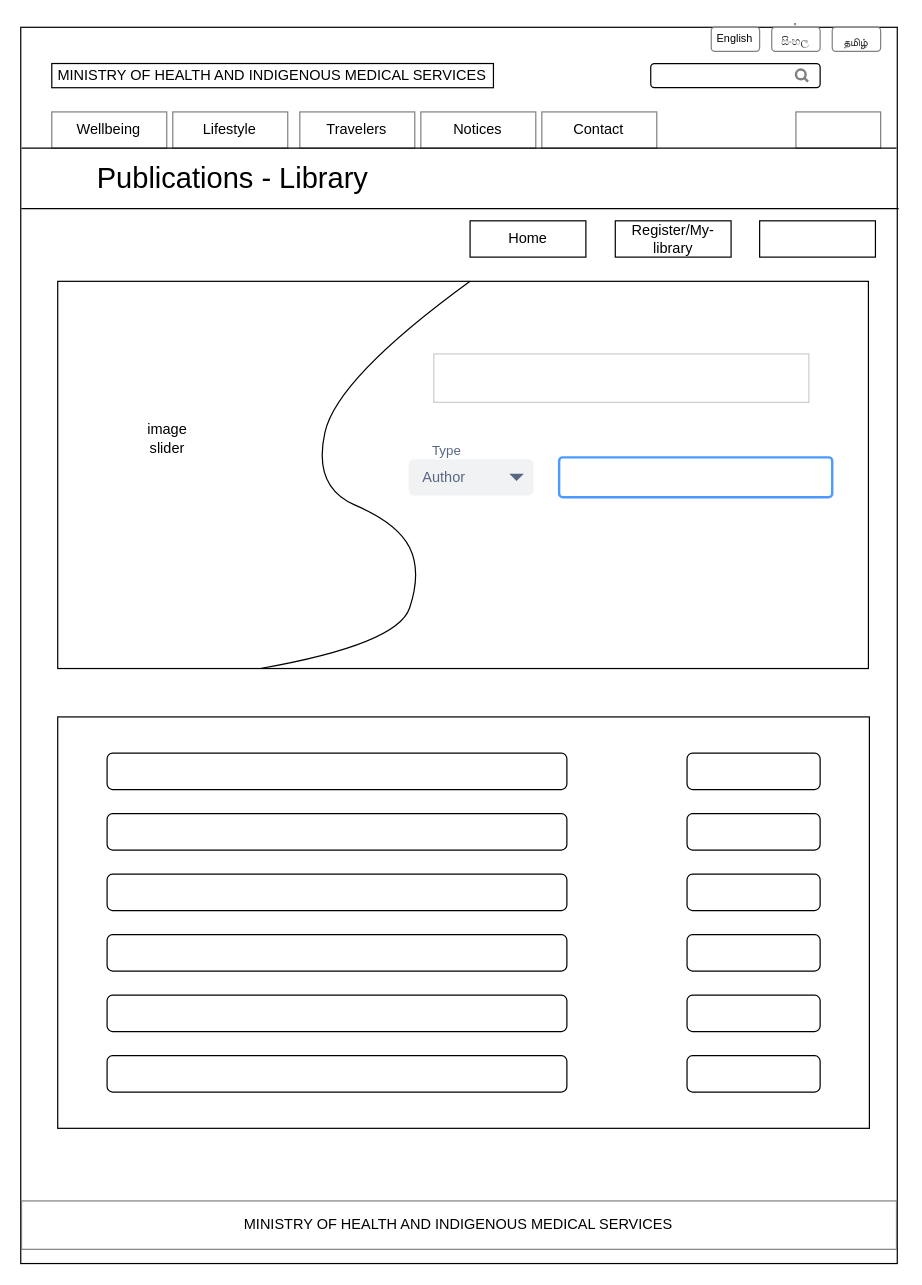
This 922x1285 diagram has some shape labels left out. The shapes that lost their labels are listed below. From the top down, each one's centre as x and y in pixels, then its label:
At [735,75]: "Search".
At [838,129]: "Login".
